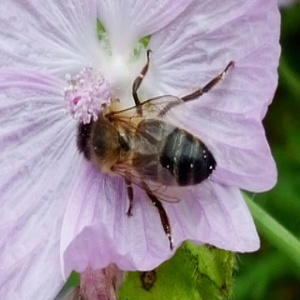bee: (74, 49, 238, 258)
